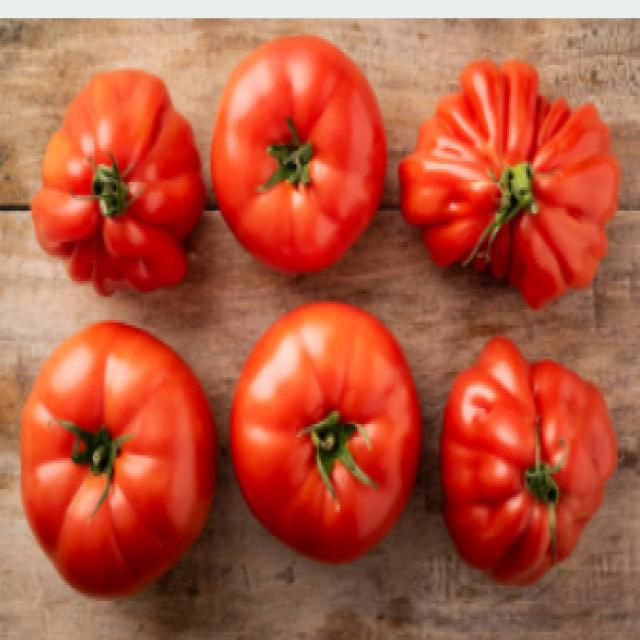Tomato: (398, 21, 622, 308), (17, 322, 213, 604), (204, 21, 392, 286), (438, 318, 613, 590), (238, 308, 412, 576), (25, 73, 200, 292)
